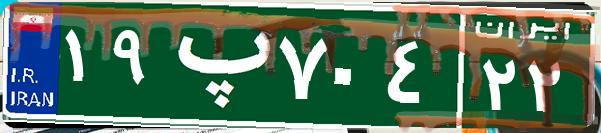0: (330, 28, 385, 110)
1: (57, 26, 110, 107)
2: (475, 38, 525, 113), (525, 38, 570, 115)
4: (385, 28, 445, 110)
7: (273, 28, 330, 110)
9: (110, 28, 158, 105)
پ: (158, 15, 273, 115)
